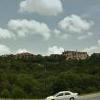Tree: (10, 59, 41, 100)
